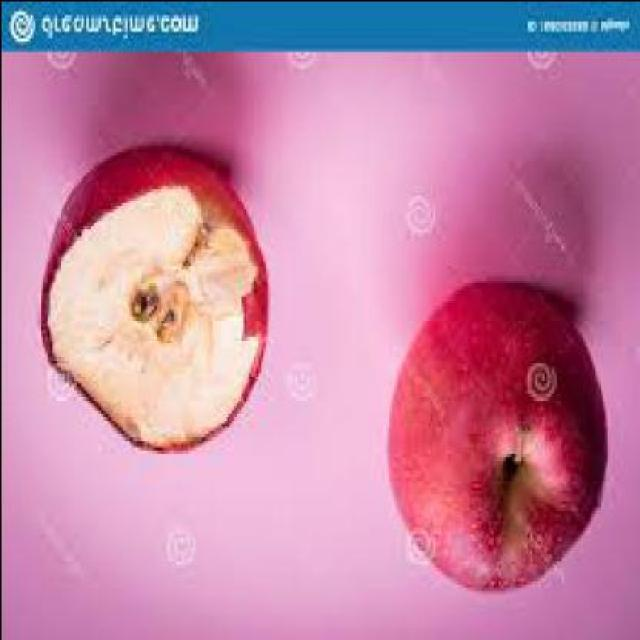BIODEGRADABLE: (33, 148, 267, 455), (382, 278, 604, 596)
